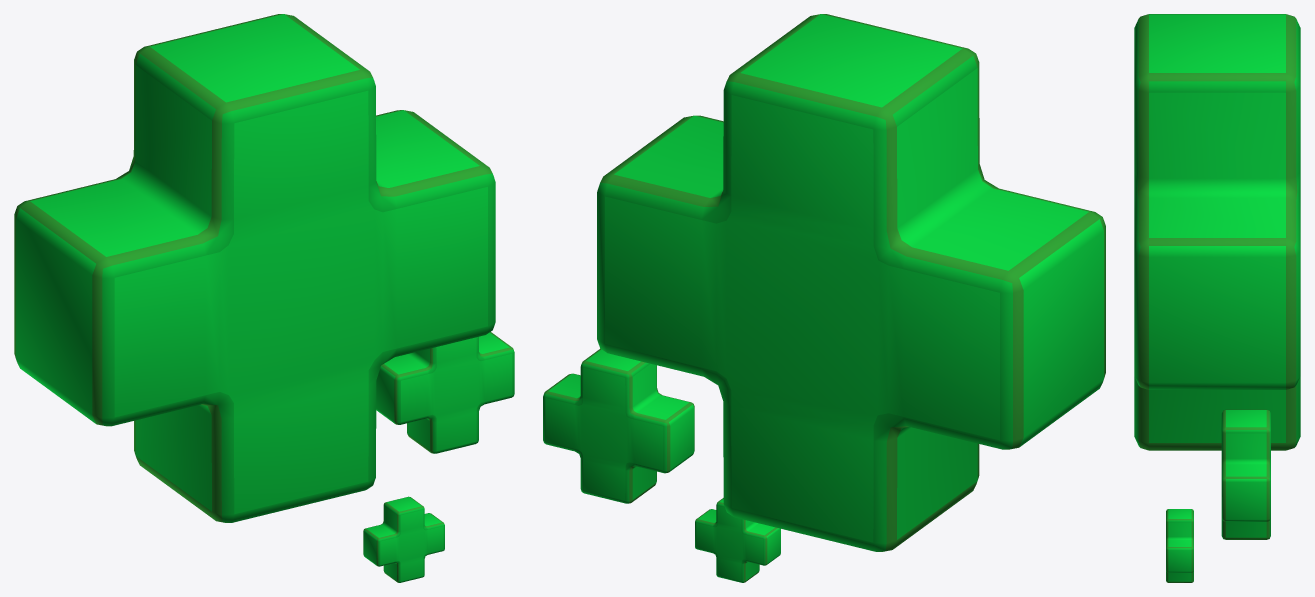
Rendered from LifeUp.fbx.
3 renders of one model, left to right at view 1: azimuth 30°, elevation 25°; view 2: azimuth 150°, elevation 25°; view 3: azimuth 270°, elevation 25°, orthographic. The views are drawn at different scales.
Parts seen in each view (by area): view 1: LifeUp; view 2: LifeUp; view 3: LifeUp.
Part boxes in pixels (<box>): LifeUp: <box>14,14,514,582</box>; LifeUp: <box>543,14,1105,582</box>; LifeUp: <box>1134,14,1300,582</box>.
Bounding box in the file's own units: 231 × 254 × 79.81.
